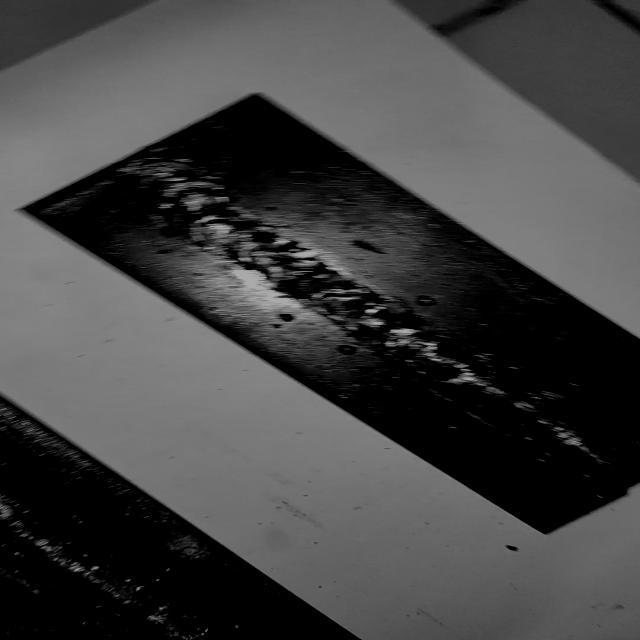Defect: (340, 338, 461, 385)
Welding Line: (116, 152, 634, 478), (0, 494, 229, 640)
Workpiece: (21, 80, 640, 538), (0, 393, 411, 639)
